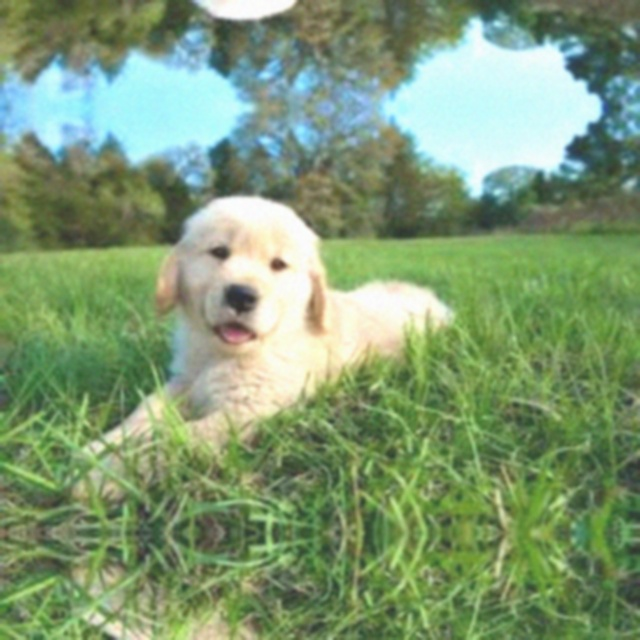dog: (135, 195, 340, 390), (136, 0, 341, 19)
